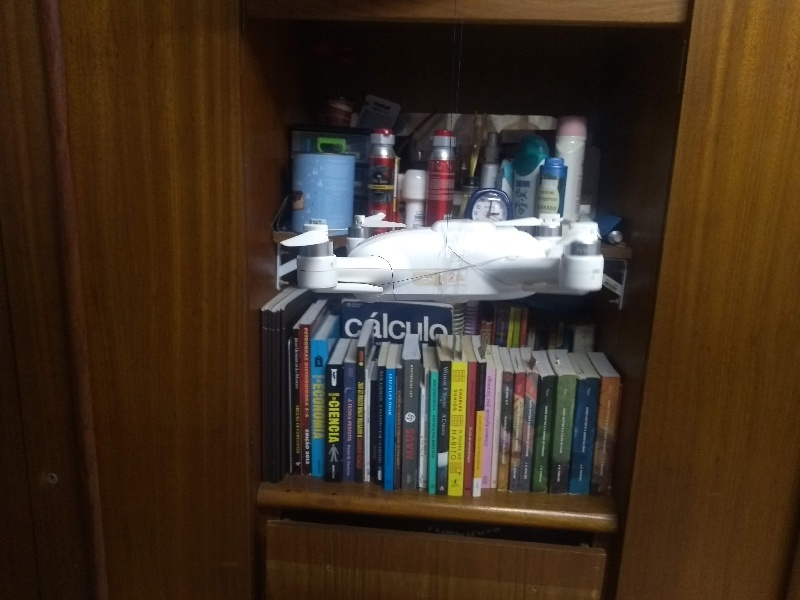drone: (279, 198, 632, 328)
